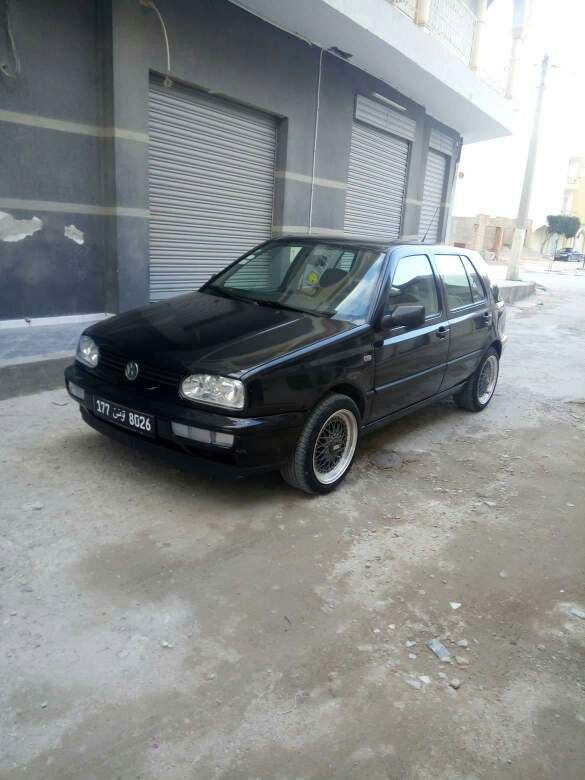LP: (91, 395, 155, 438)
